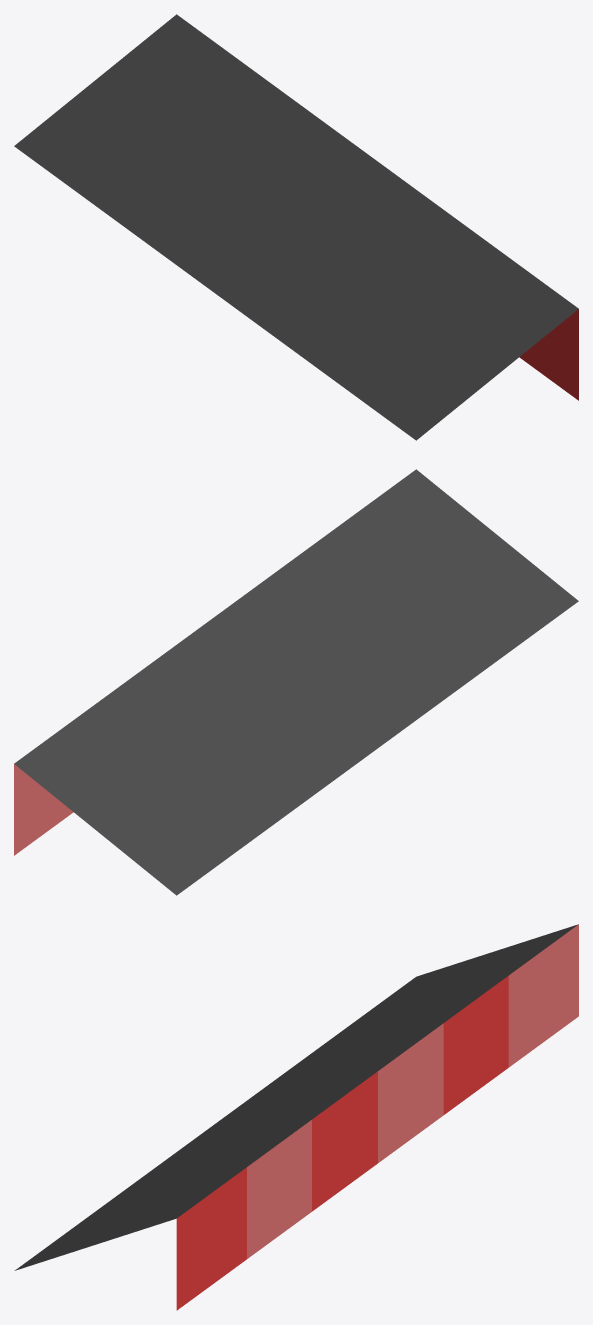
The model's file is bank.obj.
The picture shows the model from 3 angles, top to bottom: view 1: azimuth 30°, elevation 25°; view 2: azimuth 150°, elevation 25°; view 3: azimuth 330°, elevation 25°; orthographic projection.
Bounding box in the file's own units: 240 × 130 × 1028.
